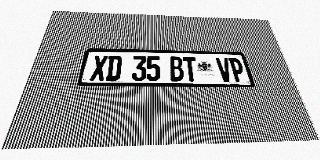3: (131, 56, 146, 81)
5: (146, 56, 160, 81)
B: (169, 57, 184, 81)
D: (105, 55, 122, 81)
P: (228, 58, 247, 82)
T: (182, 57, 198, 81)
V: (215, 57, 233, 82)
X: (89, 55, 108, 81)
